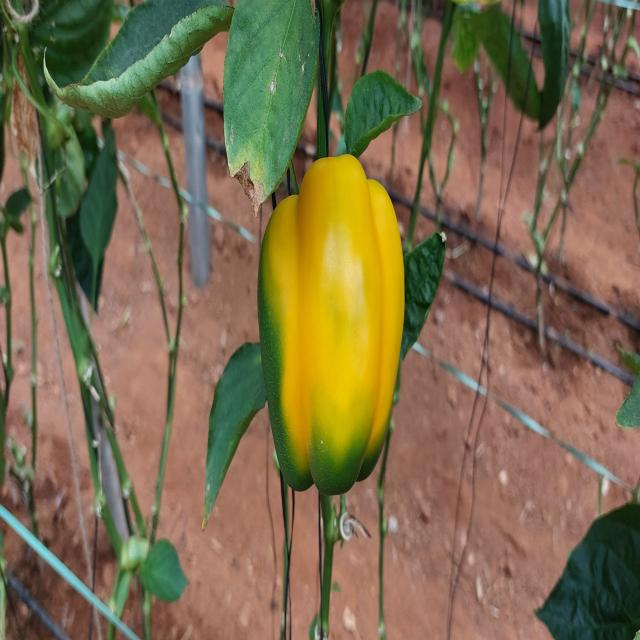GreenishYellow--Can-be-Harvested: (248, 161, 406, 502)
